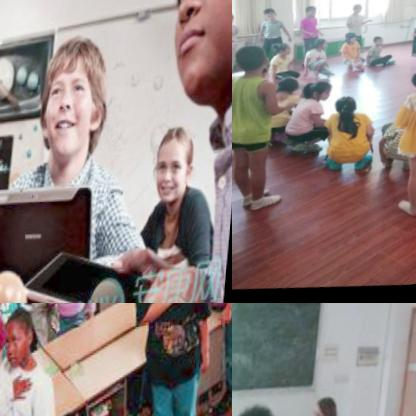head: (35, 32, 115, 174), (151, 131, 200, 215), (1, 306, 42, 376), (232, 42, 270, 76), (303, 77, 337, 105), (330, 96, 362, 122), (274, 75, 301, 97), (310, 397, 340, 416), (270, 40, 296, 61), (260, 6, 280, 23), (309, 38, 330, 54), (303, 4, 319, 22), (343, 33, 357, 47), (352, 6, 364, 20), (372, 38, 385, 50), (232, 10, 236, 28)
